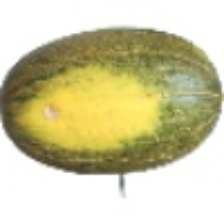honeydew: (36, 14, 209, 193)
